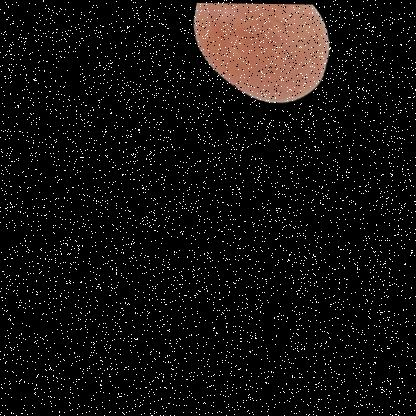opiqutan: (177, 2, 361, 148)
